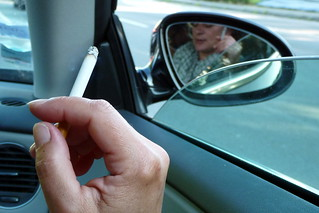cigarette: (49, 44, 100, 141)
